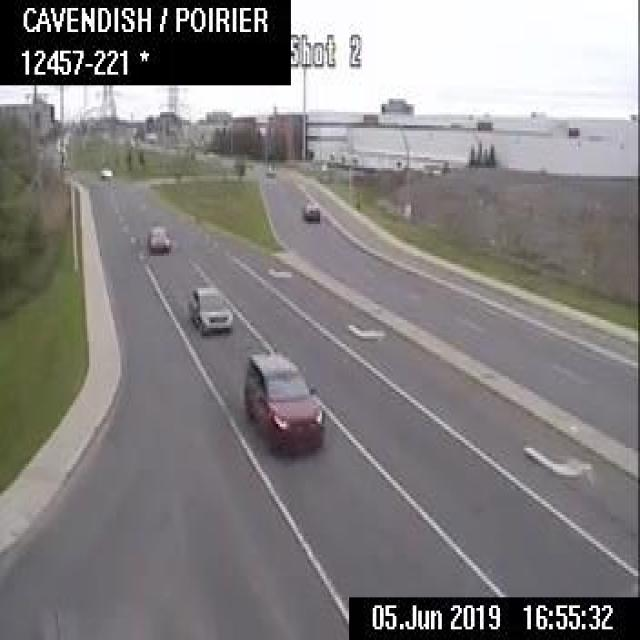vehicle: (243, 351, 324, 451), (190, 282, 232, 334), (145, 222, 170, 252), (302, 200, 320, 218)
